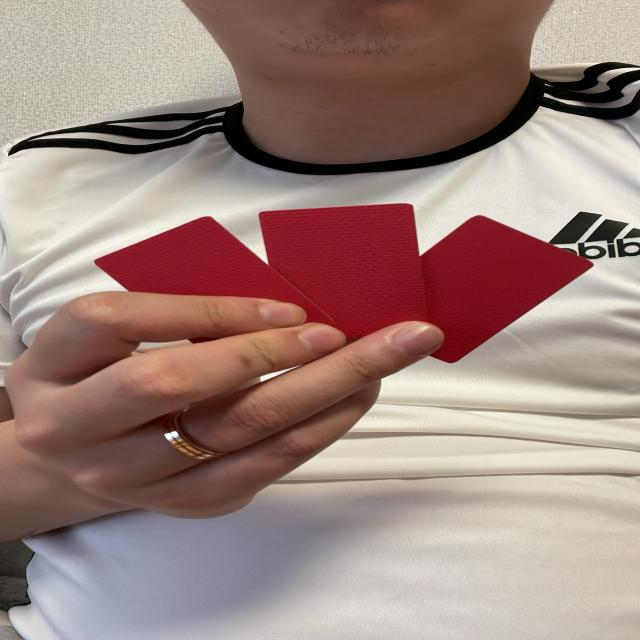hwatoo: (41, 183, 610, 372)
